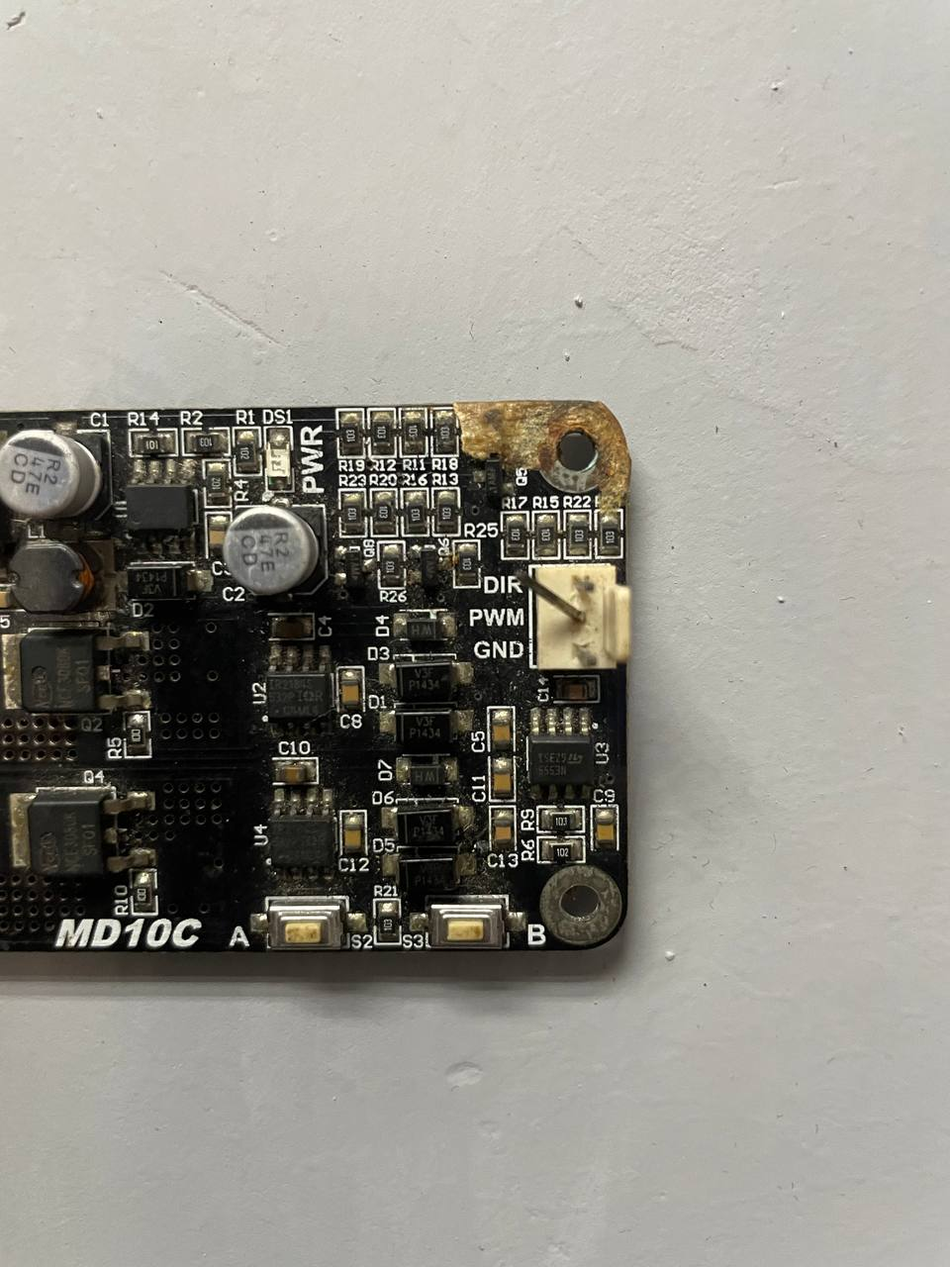bent_pin: (507, 563, 587, 635)
